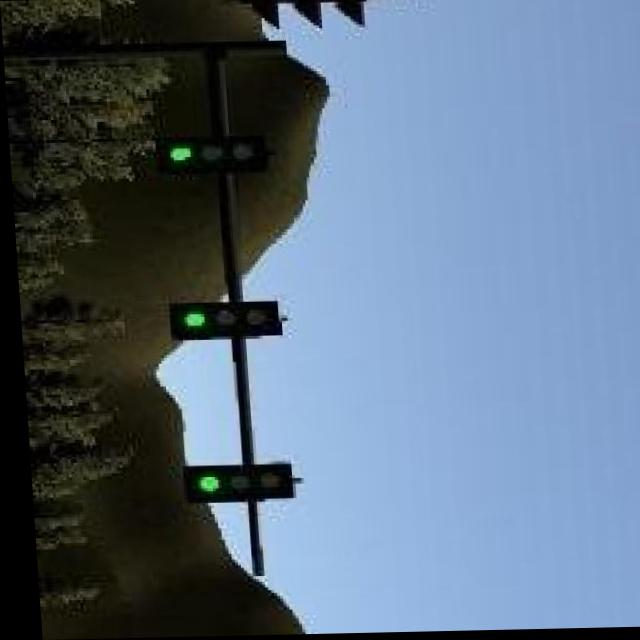green light: (156, 136, 266, 177), (177, 466, 287, 505), (164, 300, 278, 334)
